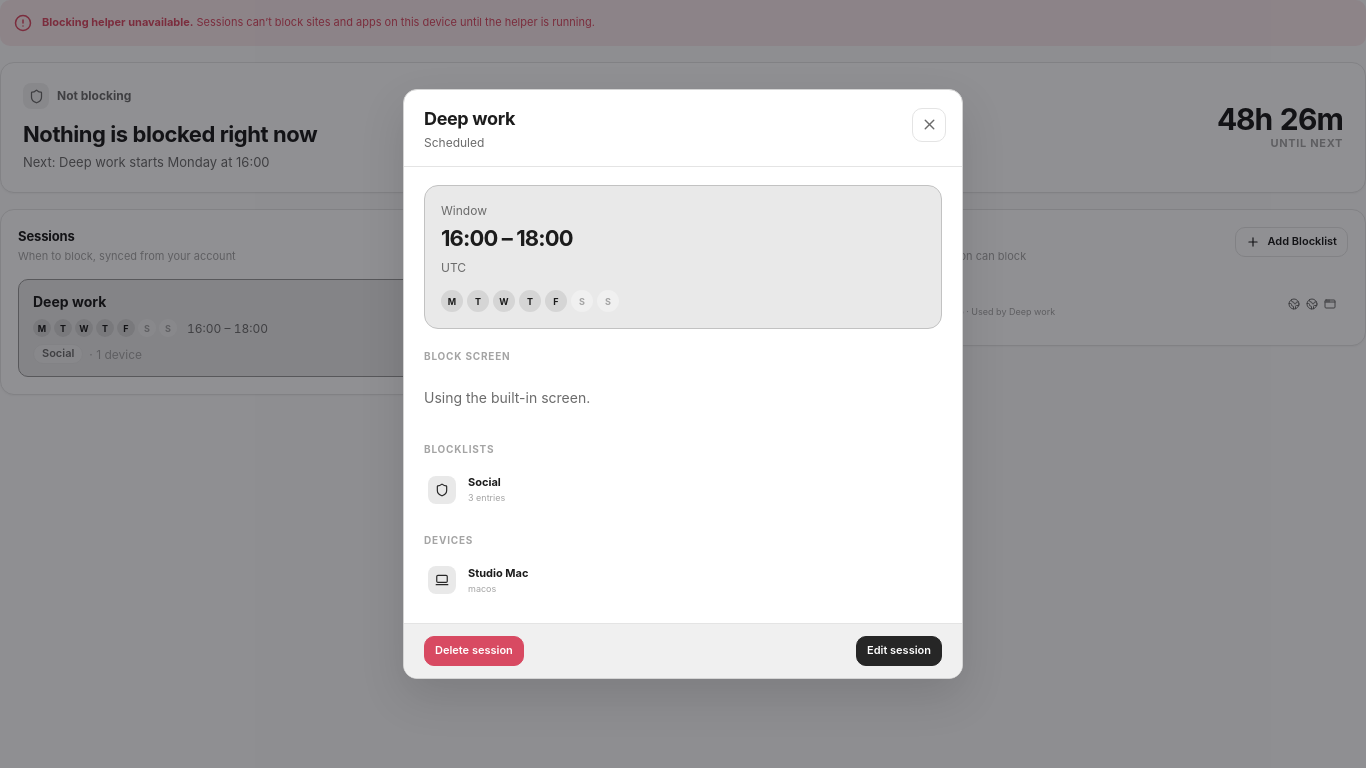
Test: BlockingScreen › cancels session edits without saving
The width and height of the screenshot is (1366, 768).
Click the button "Edit session". click: x=899, y=651
box: [856,636,942,666]
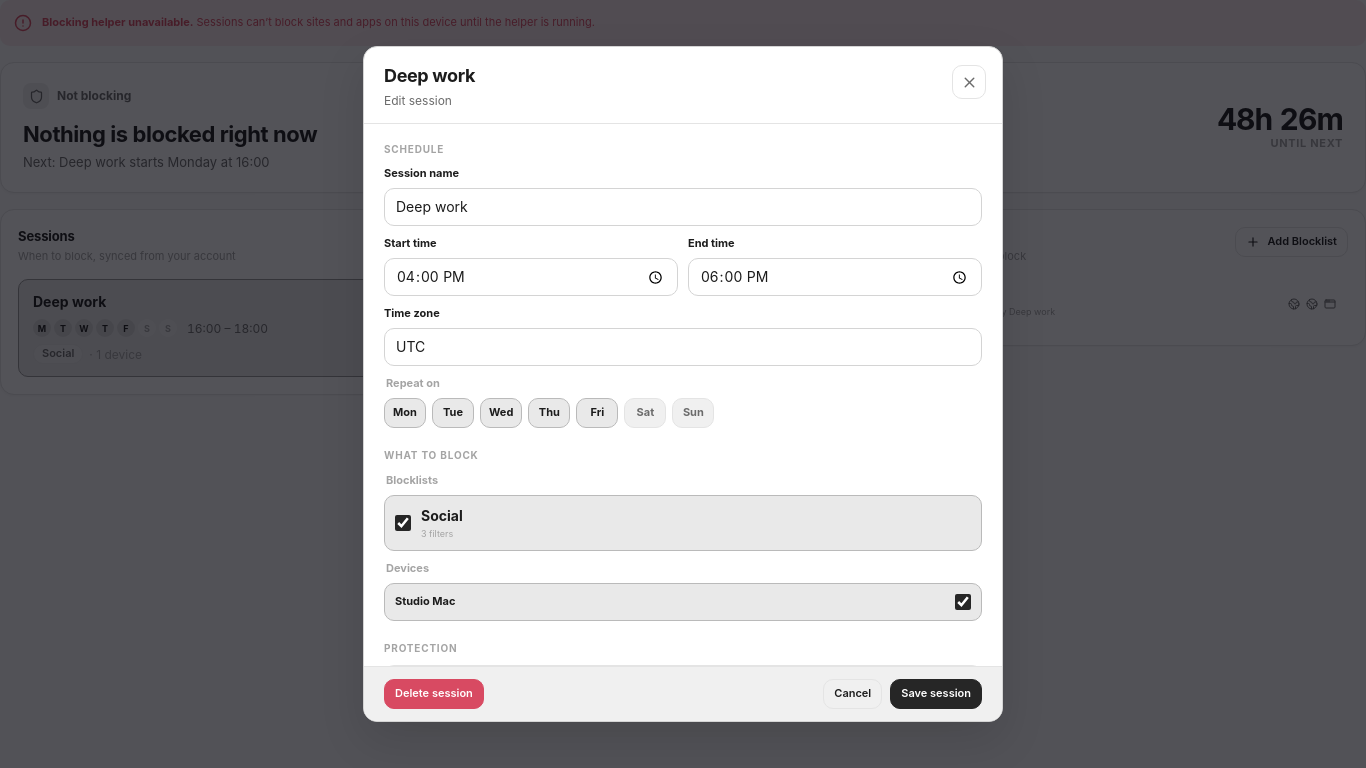
Type " night" into the field labelled "Session name". click: x=683, y=207
box: [384,188,982,226]
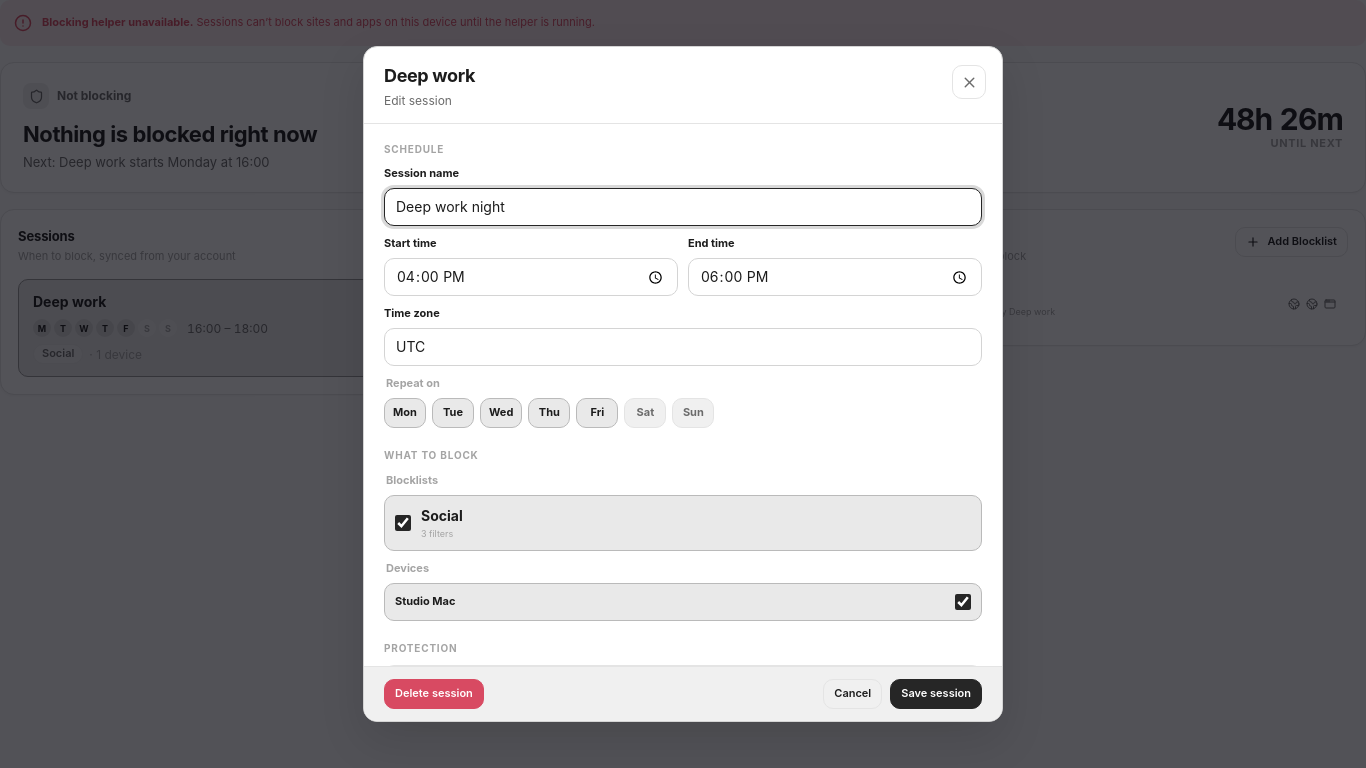
Click the button "Cancel". click: x=853, y=694
box: [823,679,882,709]
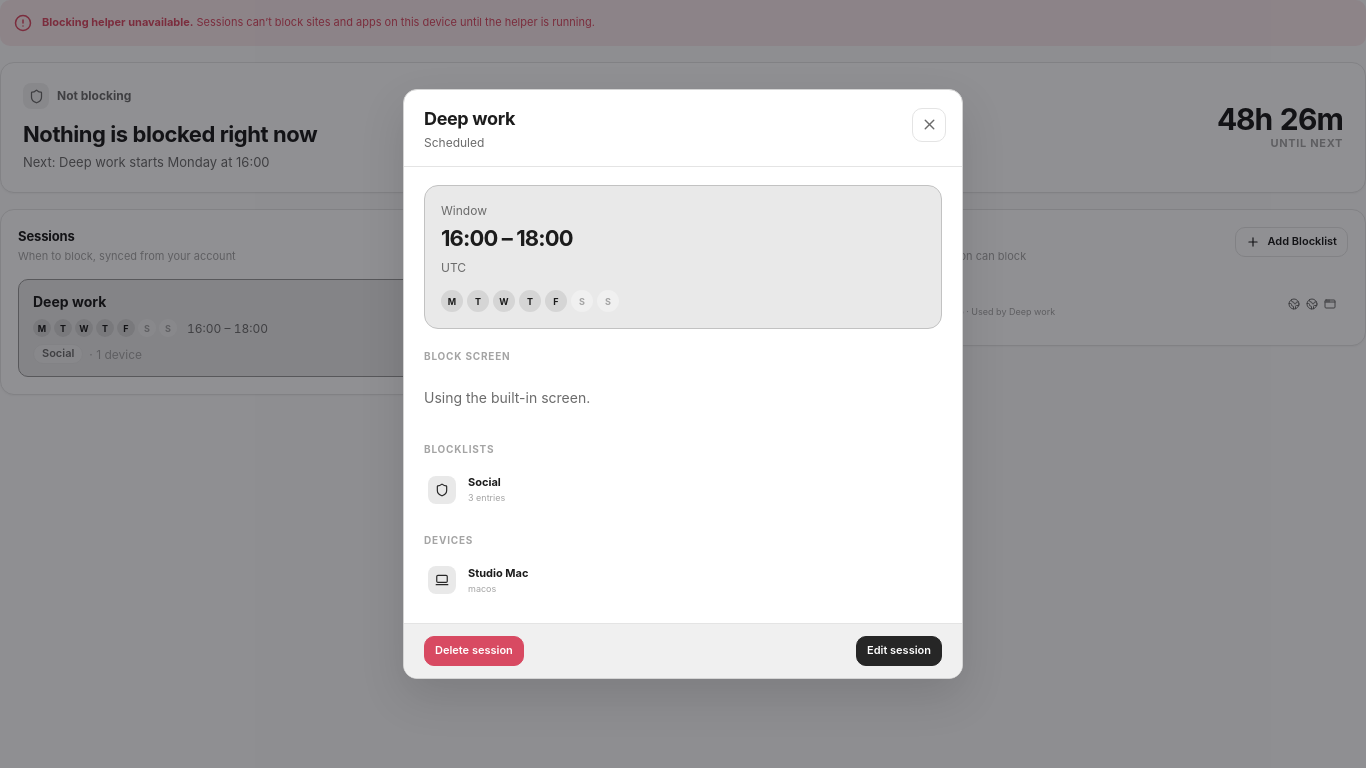
Expected: the dialog "Deep work" is shown, [403,89,963,679]
Expected: the text labelled "Session name" is gone
